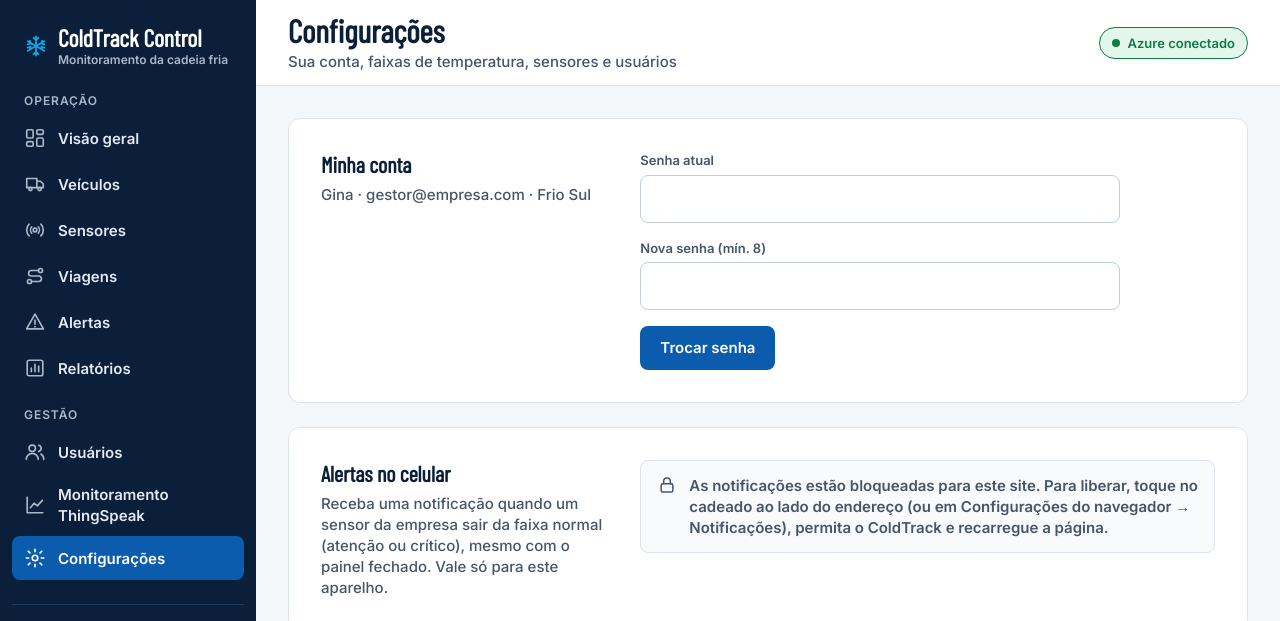
Scenario: Configurações › troca de senha recusada: mostra a mensagem da API
In the password field labelled "Senha atual": x=880, y=199 [640,175,1120,223], type "x"
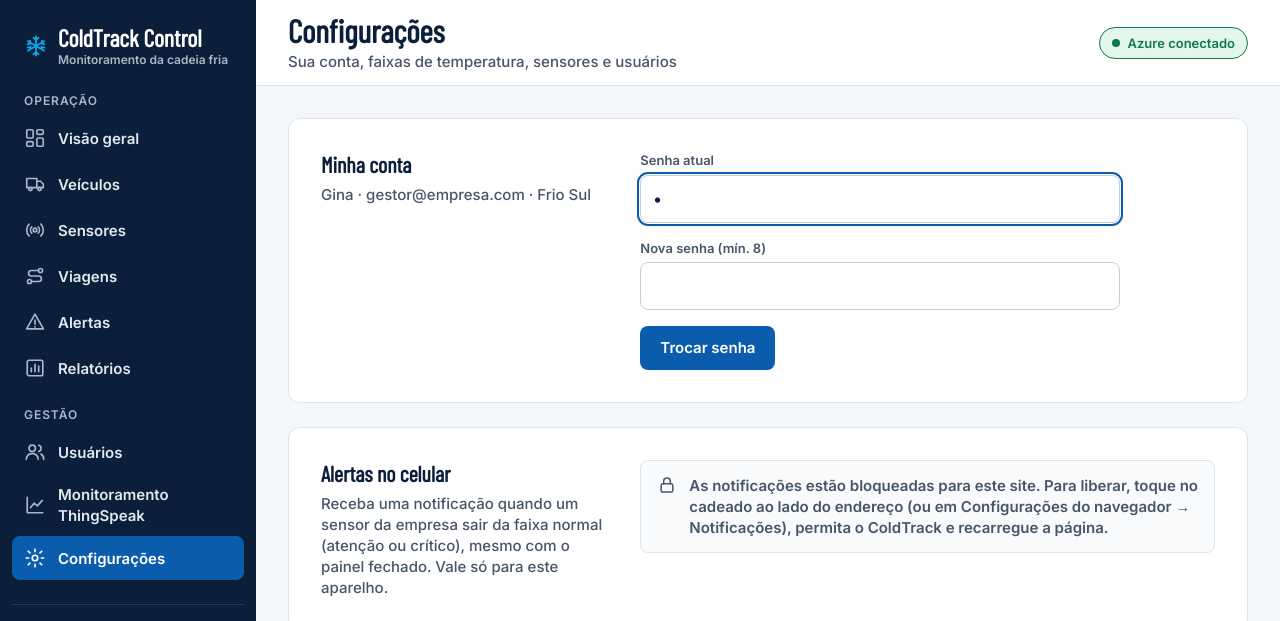
Click the button "Trocar senha": x=708, y=348 [640,326,775,370]
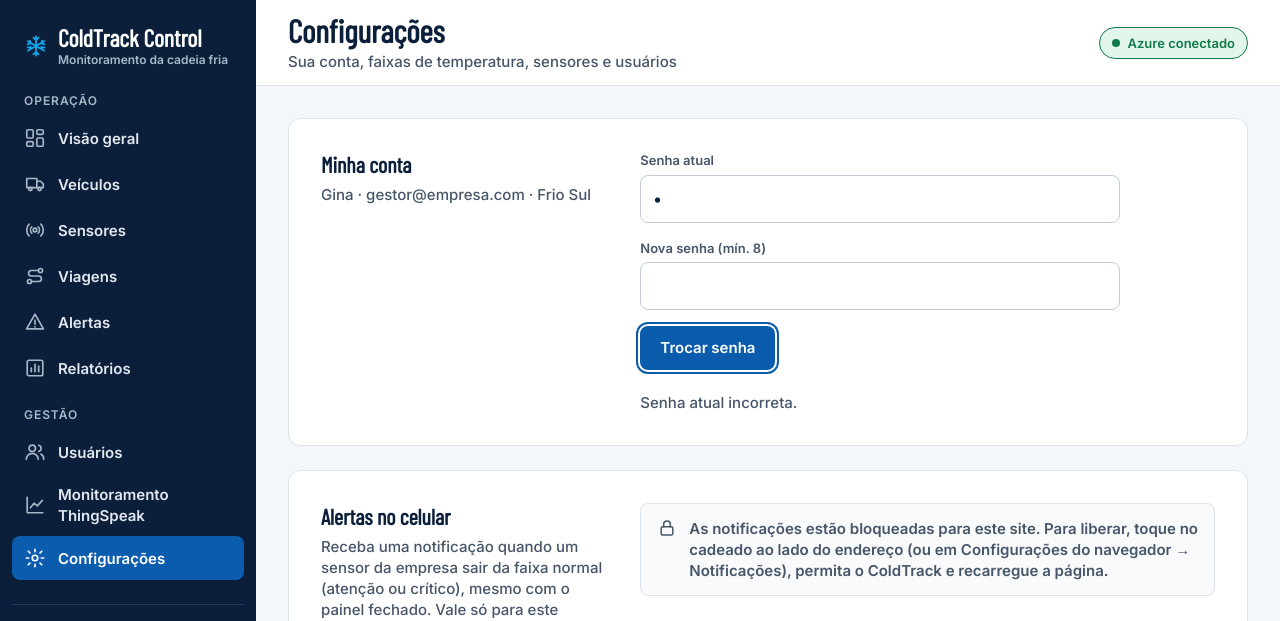
Check: the text "Senha atual incorreta." is shown, box [640,393,797,412]
